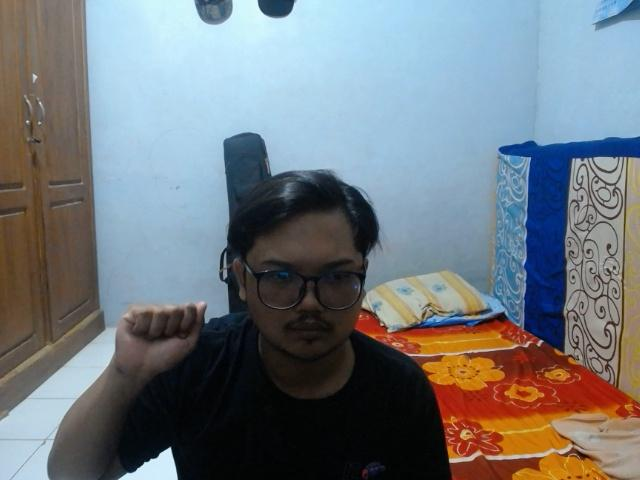Grab: (109, 298, 212, 383)
